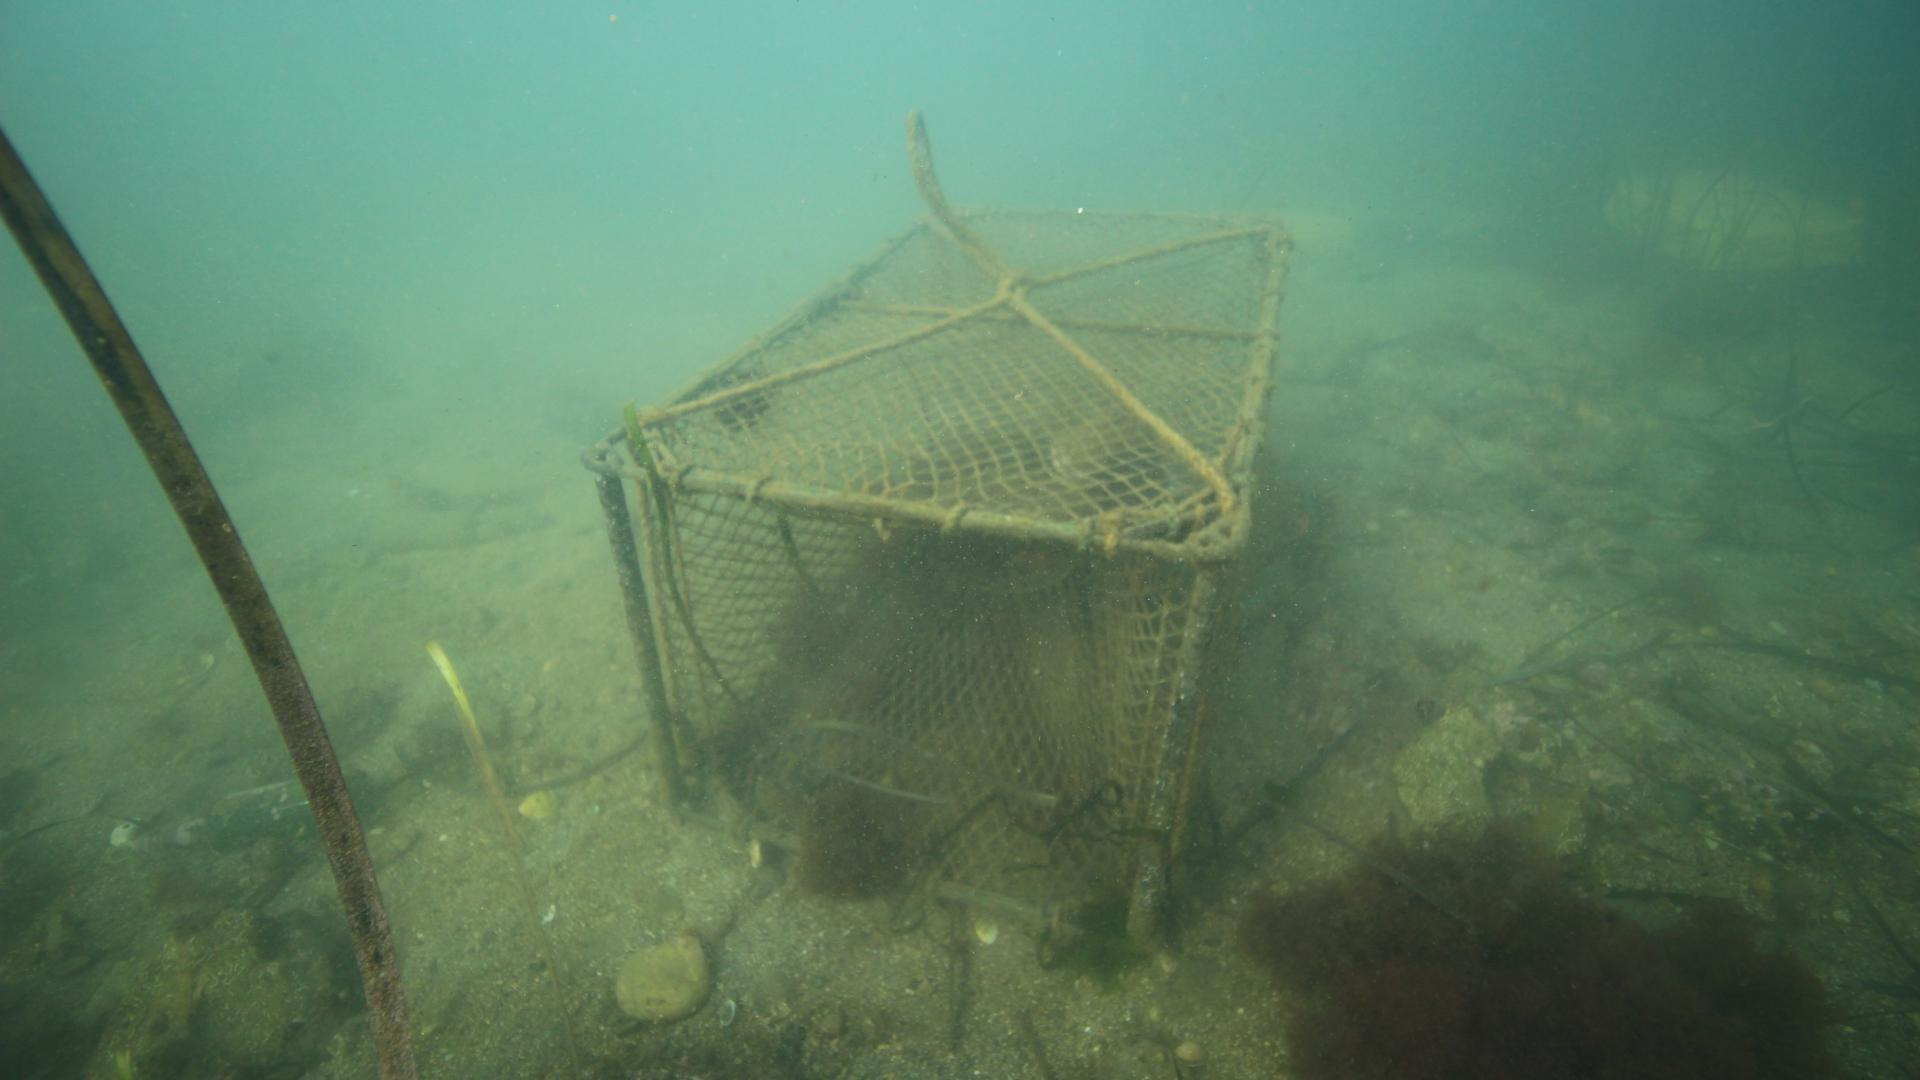rectangular fish trap: (574, 195, 1305, 971)
